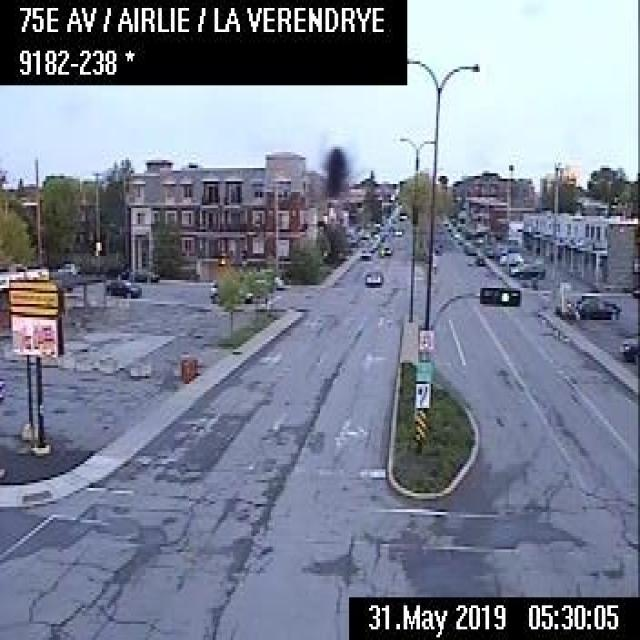construction: (182, 358, 189, 380), (188, 357, 193, 377)
vehicle: (571, 292, 620, 320), (208, 279, 252, 302), (104, 275, 140, 296), (508, 259, 545, 279), (618, 333, 638, 360), (126, 265, 159, 280), (362, 264, 381, 285), (498, 251, 522, 262), (56, 259, 76, 272), (378, 242, 391, 256), (358, 246, 370, 257), (392, 225, 403, 236)
